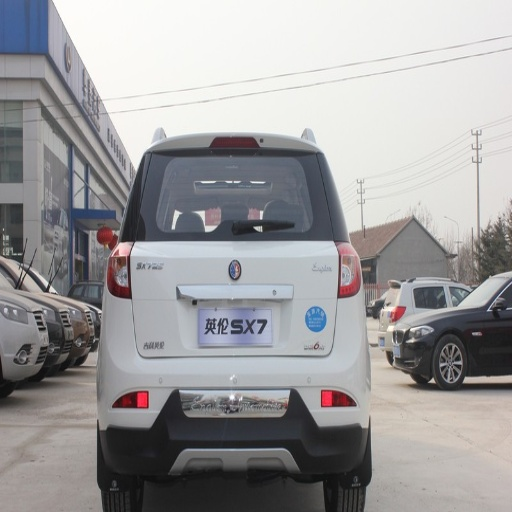back_bumper: (83, 296, 371, 477)
tailgate: (141, 257, 339, 356)
trunk: (109, 242, 341, 357)
